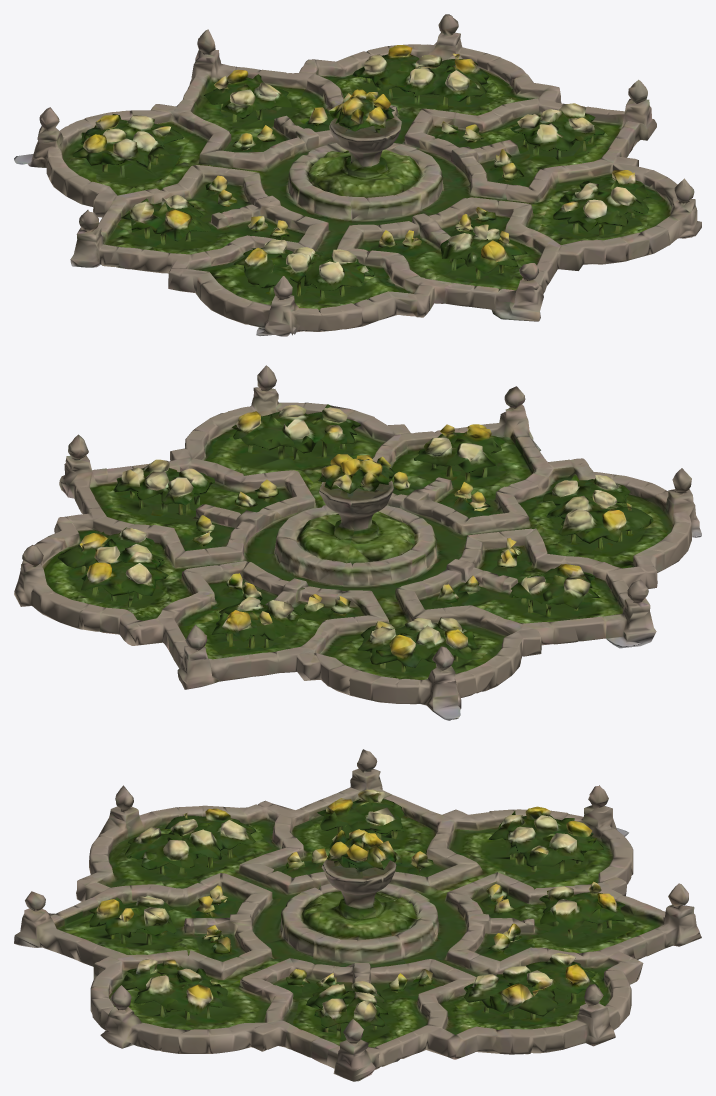
Rendered from flower_bed_square_a.glb.
3 renders of one model, top to bottom at view 1: azimuth 30°, elevation 25°; view 2: azimuth 150°, elevation 25°; view 3: azimuth 270°, elevation 25°, orthographic. The views are drawn at different scales.
Visible parts, largest first — view 1: tripo_node_1babe7ba-2769-4cb8-a874-c67215bc231e; view 2: tripo_node_1babe7ba-2769-4cb8-a874-c67215bc231e; view 3: tripo_node_1babe7ba-2769-4cb8-a874-c67215bc231e.
Boxes of the visible parts, left/top/right/bottom form: tripo_node_1babe7ba-2769-4cb8-a874-c67215bc231e: left=14, top=14, right=701, bottom=336; tripo_node_1babe7ba-2769-4cb8-a874-c67215bc231e: left=14, top=365, right=701, bottom=720; tripo_node_1babe7ba-2769-4cb8-a874-c67215bc231e: left=14, top=749, right=701, bottom=1081.
Size of the model in its own units: 0.9767 by 0.174 by 0.9797.
Materials: 1 (1 with a texture image).
